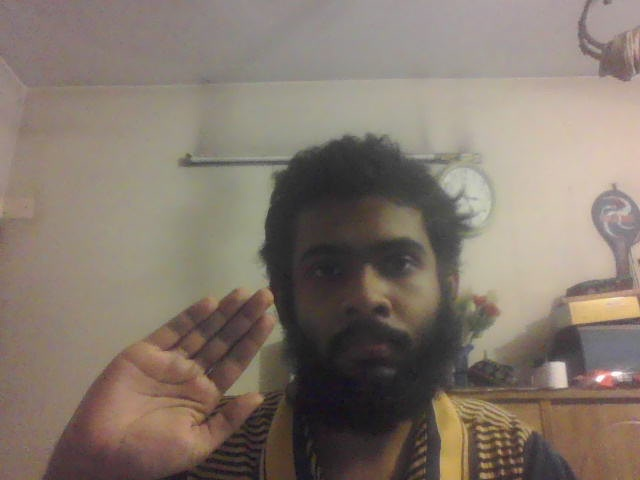Hello: (54, 290, 275, 476)
